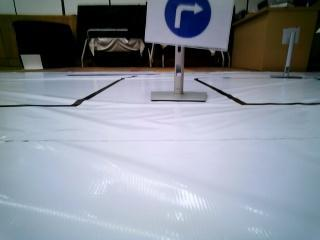right: (155, 0, 223, 49)
